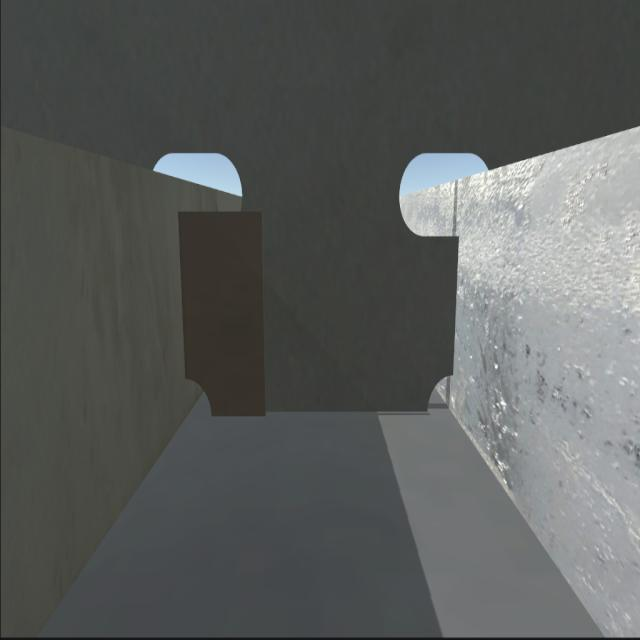fillet_hole: (424, 366, 457, 414), (183, 380, 215, 422)
fillet_yong_jeop_jang: (212, 412, 431, 424)
longi_yong_jeop_jang: (443, 239, 471, 373), (176, 215, 193, 378)
plate_CP01: (184, 208, 264, 418)
